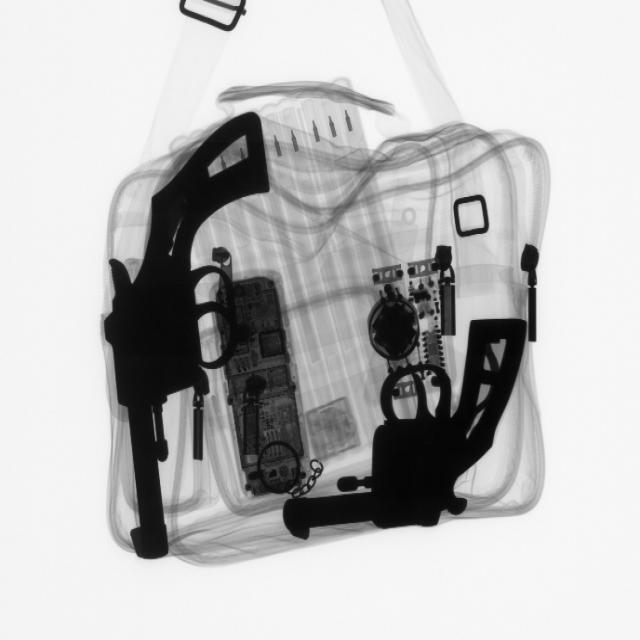GUN: (92, 118, 258, 572), (291, 304, 533, 541)
